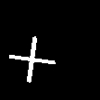single_crochet: (9, 36, 54, 82)
